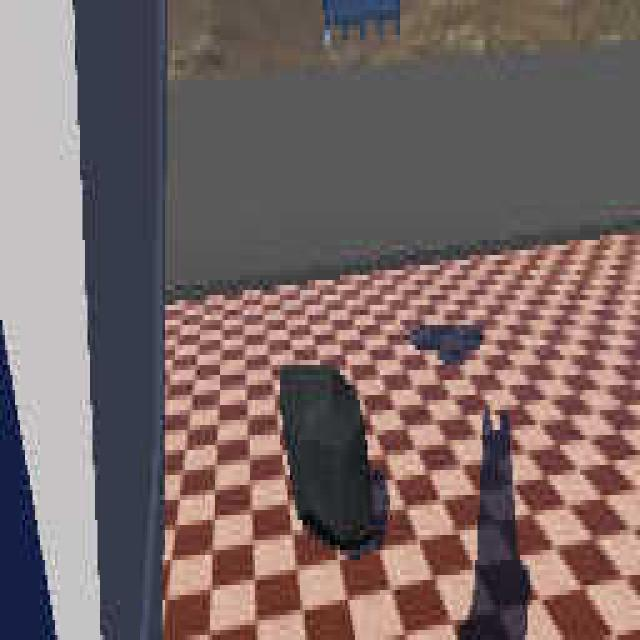rock: (278, 361, 376, 554)
